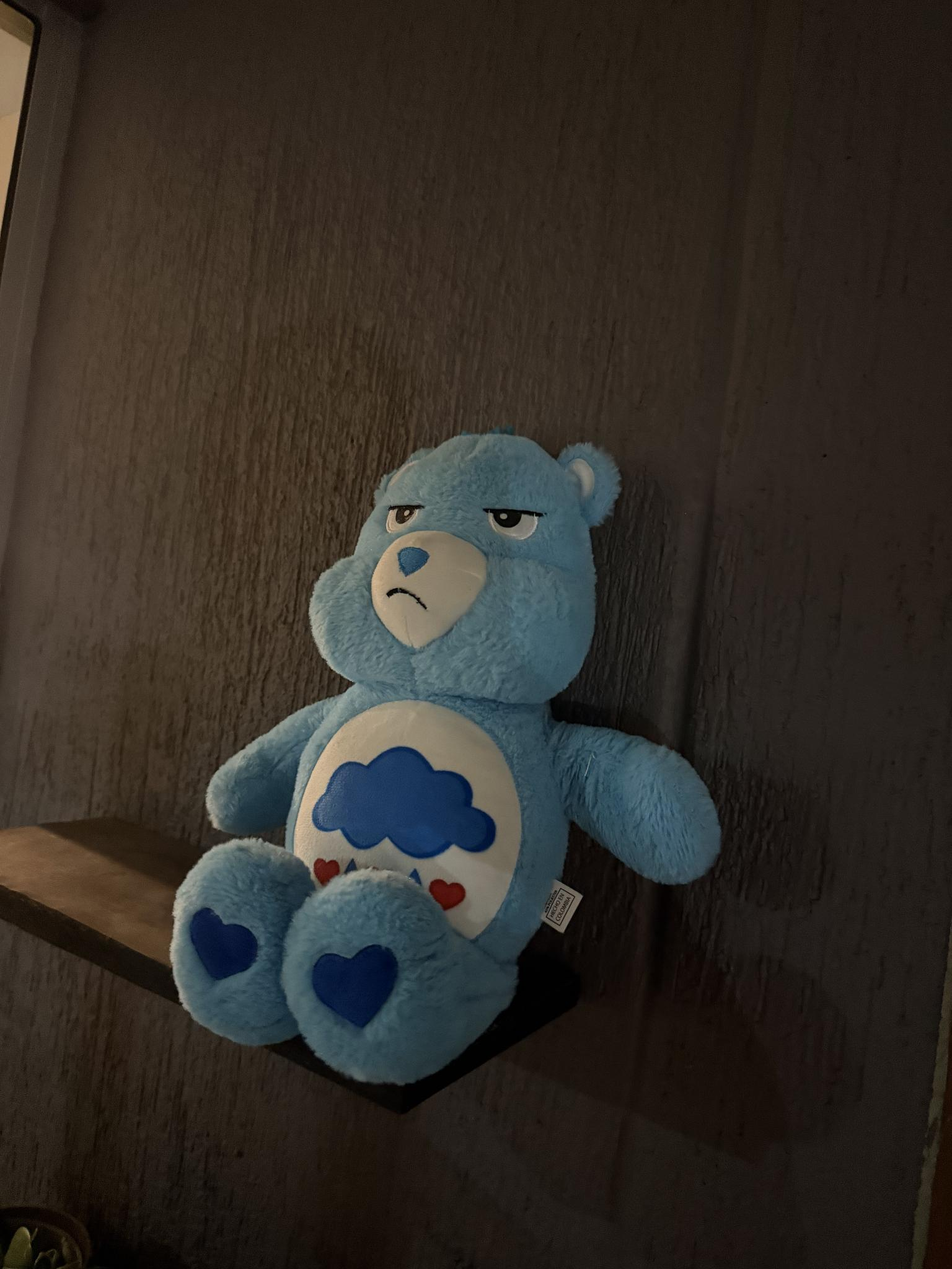peluche_Juan Jose: (167, 429, 727, 1093)
